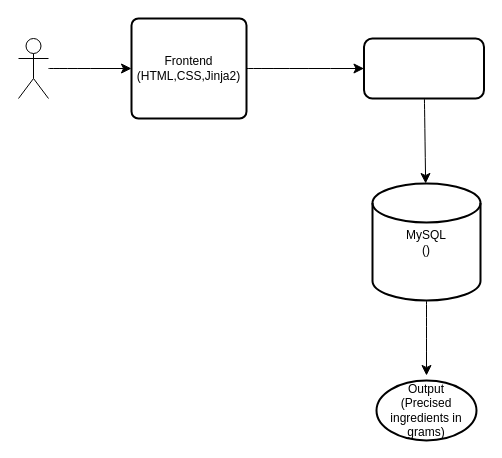
Image size: 502x458. Some labels were removed from this diagram. Each missing label, with the centre of its shape:
"Gemini 2.0" belongs at (423,68).
"USER" belongs at (33,68).
